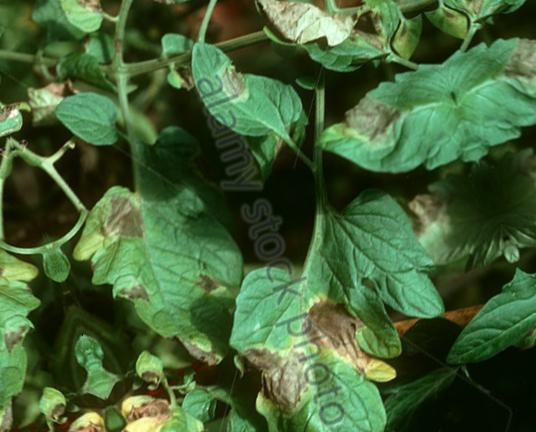Tomato leaf late blight: (186, 174, 489, 432), (48, 116, 279, 400), (165, 13, 314, 171), (251, 0, 419, 107), (95, 337, 233, 432)
